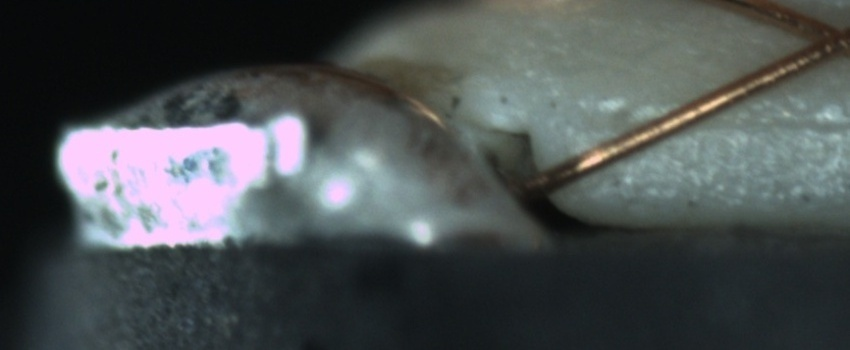CL: (780, 4, 849, 68)
DL: (616, 87, 850, 155)
